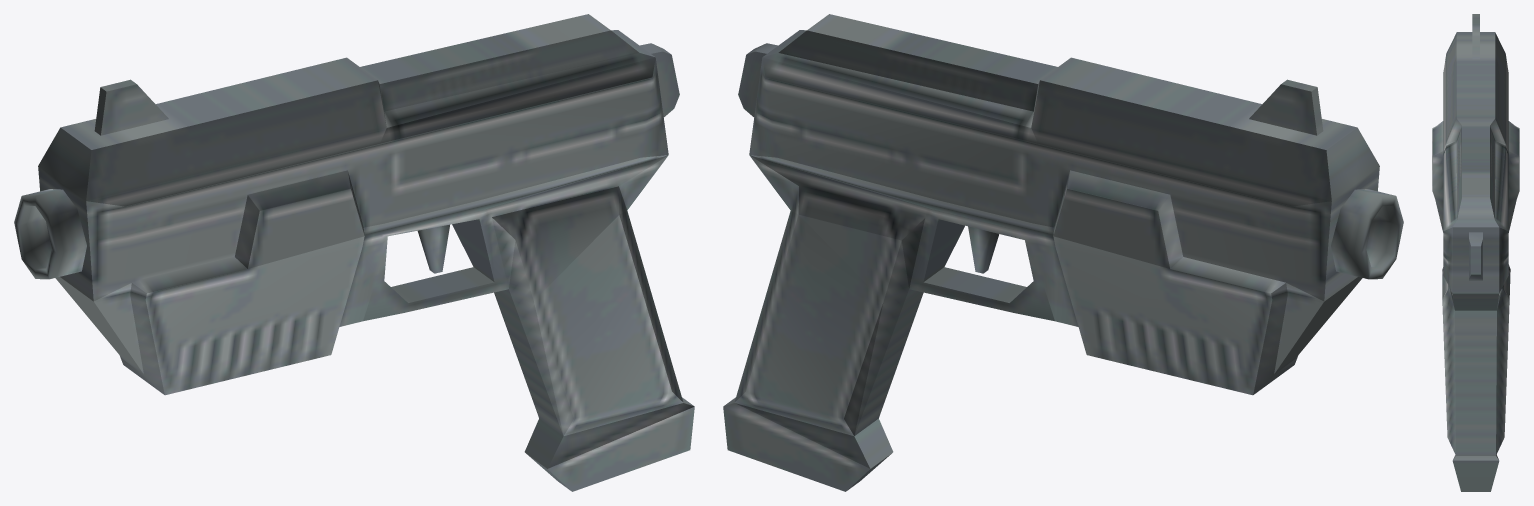
The model's file is view.ico.obj.
3 views of the same model, side by side, from view 1: azimuth 30°, elevation 25°; view 2: azimuth 150°, elevation 25°; view 3: azimuth 270°, elevation 25° (orthographic). The views are drawn at different scales.
Bounding box in the file's own units: 4.77 × 3.61 × 0.9055.
Materials: 1 (1 with a texture image).
